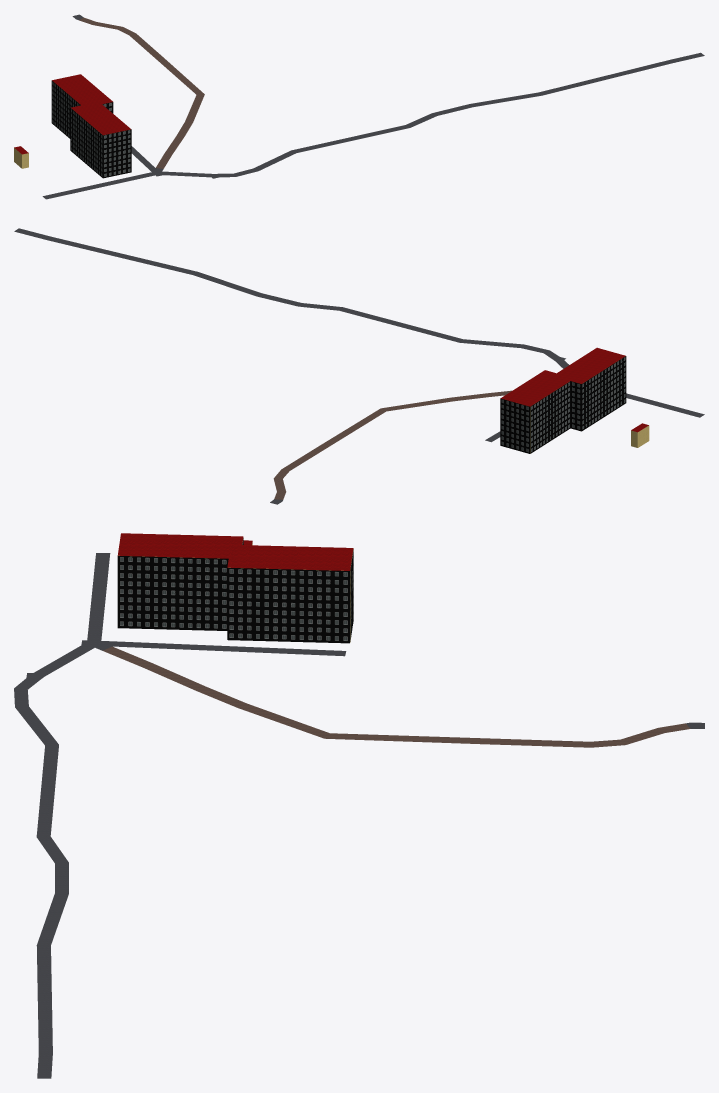
The model's file is district_2_0.glb.
The picture shows the model from 3 angles, top to bottom: view 1: azimuth 30°, elevation 25°; view 2: azimuth 150°, elevation 25°; view 3: azimuth 270°, elevation 25°; orthographic projection. The views are drawn at different scales.
Visible parts, largest first — view 1: Building w44036297, Road Огородная улица, Road Смоленская улица (×2), Road w40942506; view 2: Building w44036297, Road Огородная улица, Road Смоленская улица; view 3: Building w44036297, Road Огородная улица, Road Смоленская улица (×2), Road w286497648, Road w40942506.
Part boxes in pixels (box(x1,y1,x2,y2)): Building w44036297: box(51, 74, 131, 178); Road Огородная улица: box(163, 52, 704, 177); Road Смоленская улица (×2): box(79, 17, 204, 168); Road w40942506: box(42, 172, 154, 199); Building w44036297: box(500, 347, 626, 453); Road Огородная улица: box(14, 228, 568, 368); Road Смоленская улица: box(273, 397, 452, 499); Building w44036297: box(117, 533, 353, 643); Road Огородная улица: box(14, 645, 91, 1078); Road Смоленская улица (×2): box(103, 646, 690, 747); Road w286497648: box(112, 641, 346, 656); Road w40942506: box(87, 553, 110, 640).
Size of the model in its own units: 351 by 22.5 by 195.
Materials: 5 (5 with a texture image).
